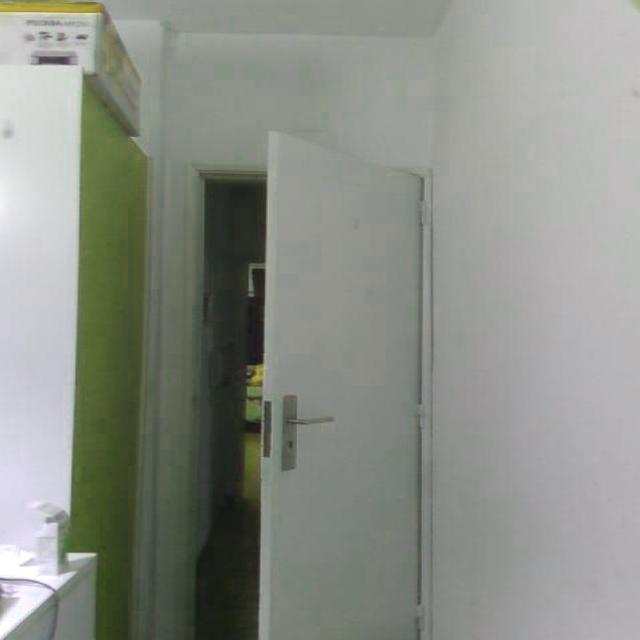door: (257, 128, 426, 638)
